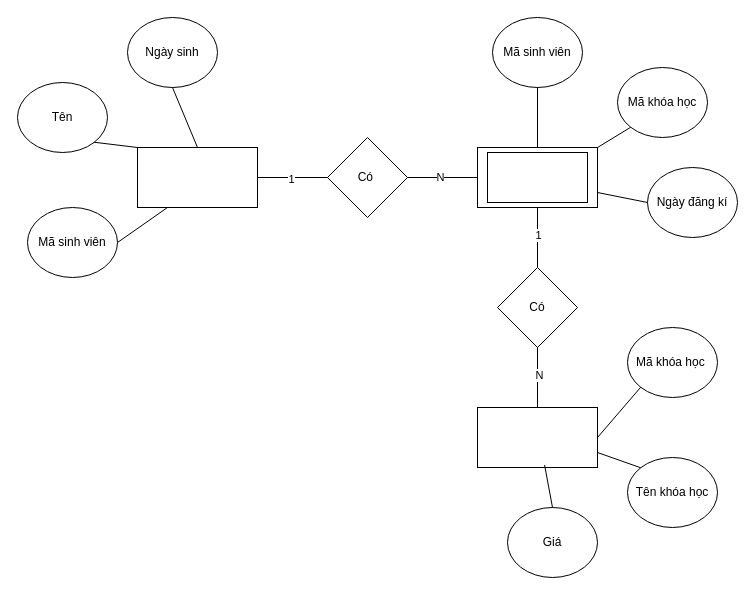
Some shapes in this 755 by 595 pixel diagram are drawn without their labels. The shapes that lost their labels are listed below. From the top down, each one's box as (x1, y1, x2, y2) in pixels, then its label:
(136, 146, 258, 208): Sinh viên
(486, 152, 588, 202): Đăng kí
(476, 406, 598, 468): Khóa học
